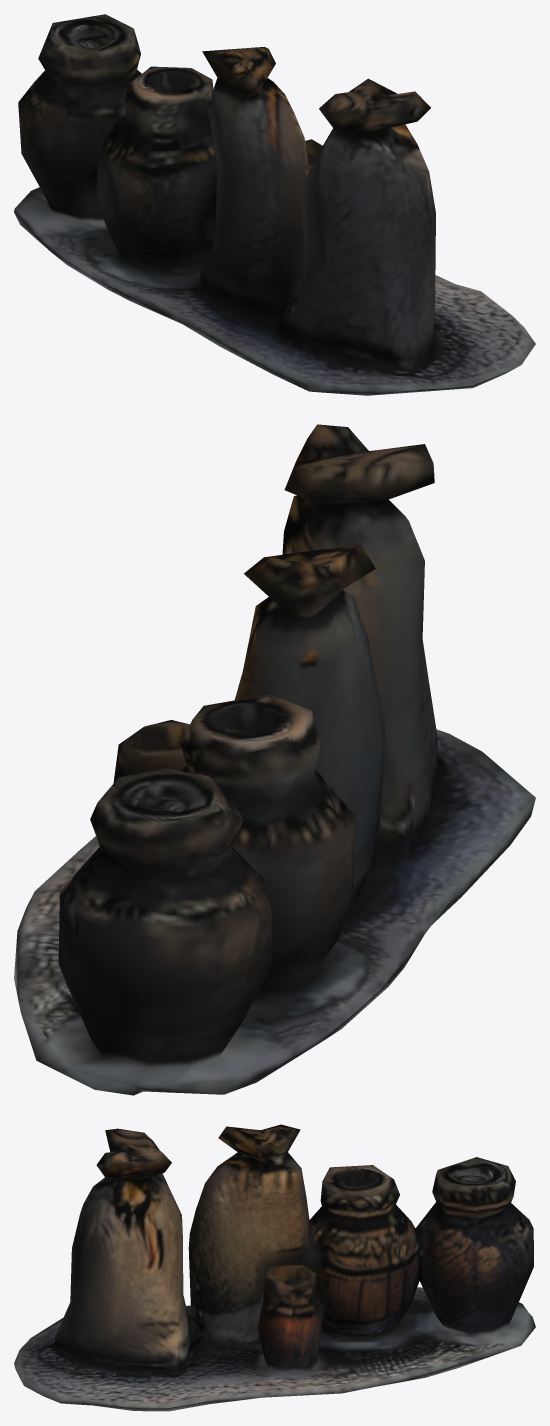
Rendered from Bags.fbx.
3 views of the same model, one above another, from view 1: azimuth 30°, elevation 25°; view 2: azimuth 150°, elevation 25°; view 3: azimuth 270°, elevation 25° (orthographic). The views are drawn at different scales.
Parts seen in each view (by area): view 1: meshes[0]; view 2: meshes[0]; view 3: meshes[0].
Part boxes in pixels (left/top/right/bottom): meshes[0]: left=14, top=14, right=535, bottom=395; meshes[0]: left=14, top=424, right=535, bottom=1095; meshes[0]: left=14, top=1124, right=535, bottom=1411.
Size of the model in its own units: 14.57 by 12.58 by 27.63.
